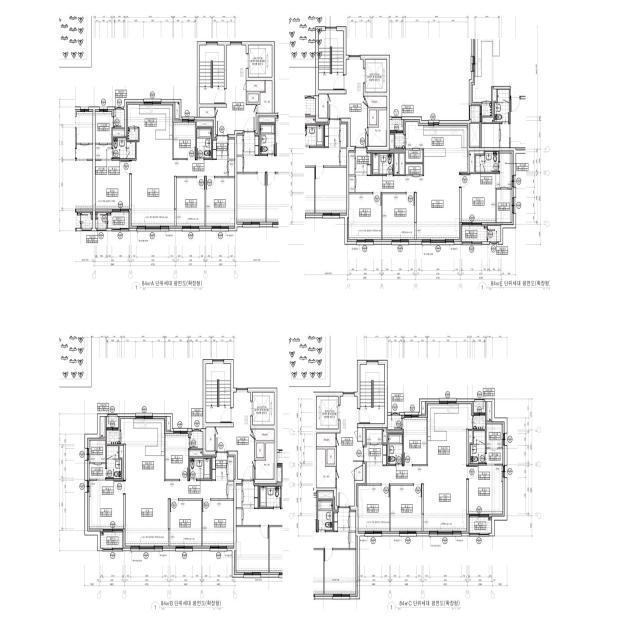space_balconi: (462, 225, 487, 241), (101, 532, 123, 548), (108, 213, 129, 228), (470, 518, 491, 533)
space_bedroom: (461, 174, 496, 222), (95, 161, 130, 209), (468, 465, 502, 514), (89, 481, 123, 529), (382, 194, 415, 239), (358, 485, 390, 531), (349, 194, 381, 239), (203, 500, 234, 546), (170, 501, 201, 546), (391, 486, 422, 531), (176, 178, 205, 226), (206, 178, 234, 226), (404, 418, 427, 464), (165, 434, 188, 479), (174, 122, 196, 158)
space_dressroom: (496, 153, 512, 222), (95, 112, 112, 159), (487, 424, 503, 464), (89, 441, 105, 479)
space_elevator: (249, 45, 272, 77), (365, 59, 387, 92), (253, 392, 274, 425), (317, 397, 338, 429)
space_elevator_hall: (216, 45, 256, 134), (328, 60, 367, 146), (216, 392, 254, 479), (337, 397, 363, 506)
space_front: (212, 453, 234, 480), (213, 136, 235, 159), (364, 444, 387, 466), (356, 148, 371, 175)
space_kitchen: (428, 404, 473, 465), (121, 419, 164, 481), (128, 105, 173, 160), (406, 122, 467, 148)
space_living_room: (356, 148, 467, 239), (125, 481, 234, 546), (132, 160, 234, 226), (367, 466, 467, 531)
space_other: (317, 449, 335, 488), (368, 110, 387, 146), (256, 443, 274, 479), (258, 81, 272, 113), (469, 151, 484, 172), (252, 429, 274, 440), (365, 96, 387, 107), (317, 433, 335, 446), (406, 150, 423, 162), (367, 430, 382, 443), (206, 427, 214, 451), (488, 226, 500, 242), (319, 94, 327, 118), (191, 432, 203, 448), (246, 81, 265, 91), (406, 164, 423, 175), (388, 415, 401, 429), (107, 430, 120, 444), (114, 110, 124, 128), (119, 445, 124, 479), (395, 133, 405, 149), (474, 416, 485, 429), (349, 152, 355, 175), (468, 431, 472, 464), (200, 108, 214, 117), (327, 449, 335, 464), (369, 110, 377, 125), (355, 466, 363, 480), (128, 129, 138, 140), (257, 443, 264, 458), (399, 154, 404, 174), (349, 176, 355, 192), (394, 153, 398, 174), (100, 417, 104, 437), (248, 94, 258, 102), (488, 402, 492, 420), (189, 451, 202, 456), (358, 428, 363, 441), (197, 122, 212, 126), (383, 429, 387, 443), (390, 135, 394, 149), (113, 131, 124, 136), (167, 417, 170, 430), (422, 402, 425, 414)
space_outdoor_room: (95, 213, 107, 228), (390, 120, 403, 130), (474, 402, 485, 413), (107, 417, 118, 427)
space_staircase: (206, 364, 231, 423), (319, 31, 343, 90), (200, 45, 224, 104), (360, 365, 384, 423)
space_toilet: (372, 153, 394, 175), (471, 431, 485, 464), (107, 446, 121, 478), (190, 458, 211, 479), (476, 152, 498, 172), (113, 138, 135, 158), (388, 434, 402, 464), (197, 128, 211, 158)
